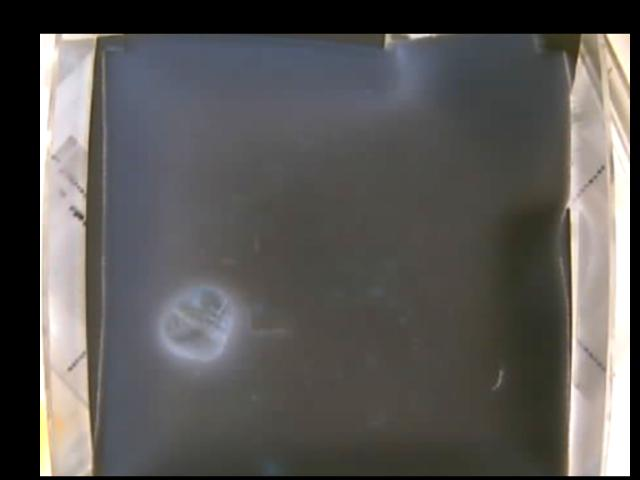Pebble: (159, 285, 233, 360)
